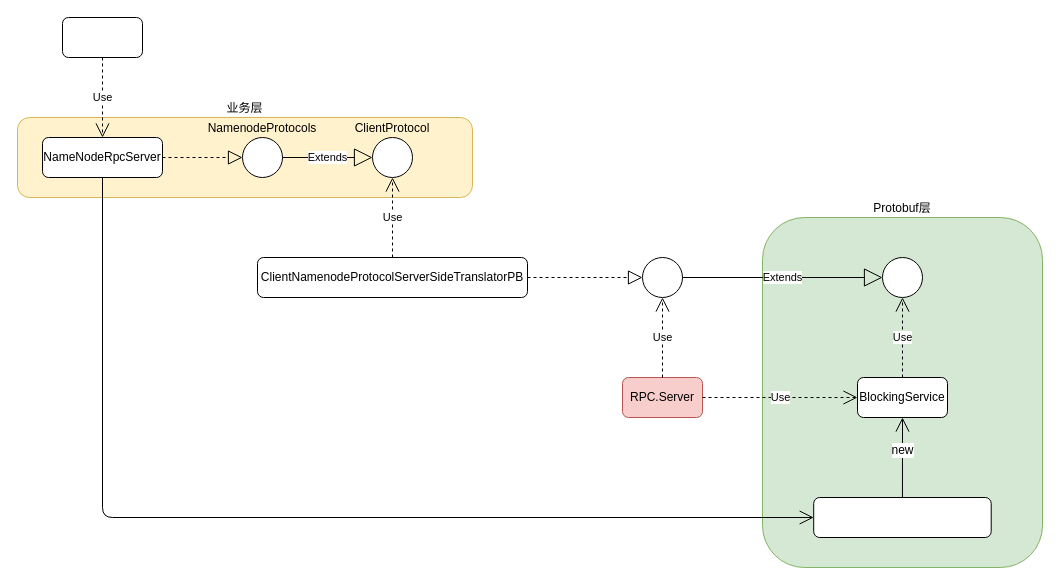
The diagram is 1060 pixels wide and 585 high, and some of its shapes have lost their labels. Here are the shapes that lost their labels. From the top down, the centre of each, then its label:
(102,37): NameNode
(662,277): ClientNamenodeProtocolPB
(902,277): ClientNamenodeProtocol.BlockingInterface
(902,517): ClientNamenodeProtocolProtos. ClientNamenodeProtocol
